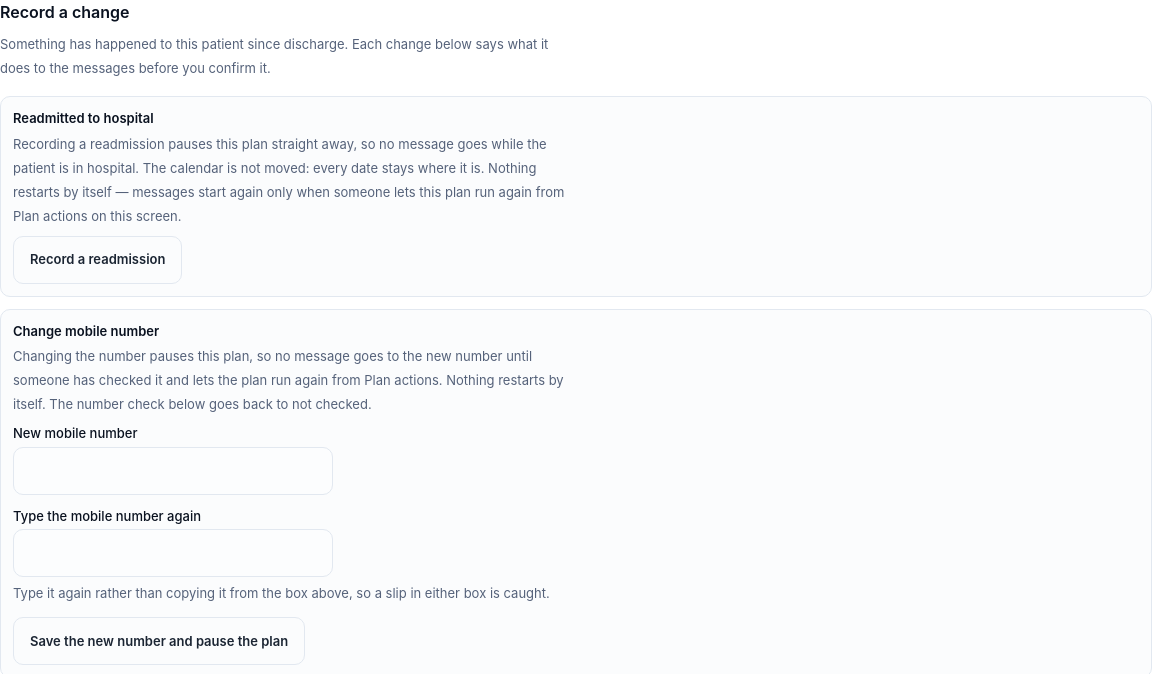
Test: recording a readmission › says messages pause, the calendar stays, and nothing restarts by itself; then sends the event
The image size is (1152, 674).
Expected: the element with test id "caring-contacts-update-readmission-block" shows "pauses this plan straight away", top-left (13, 136), bottom-right (564, 224)
Expected: the element with test id "caring-contacts-update-readmission-block" shows "The calendar is not moved", top-left (13, 136), bottom-right (564, 224)
Step 1. Click the button "Record a readmission" → (98, 260), box top-left (13, 236), bottom-right (182, 284)
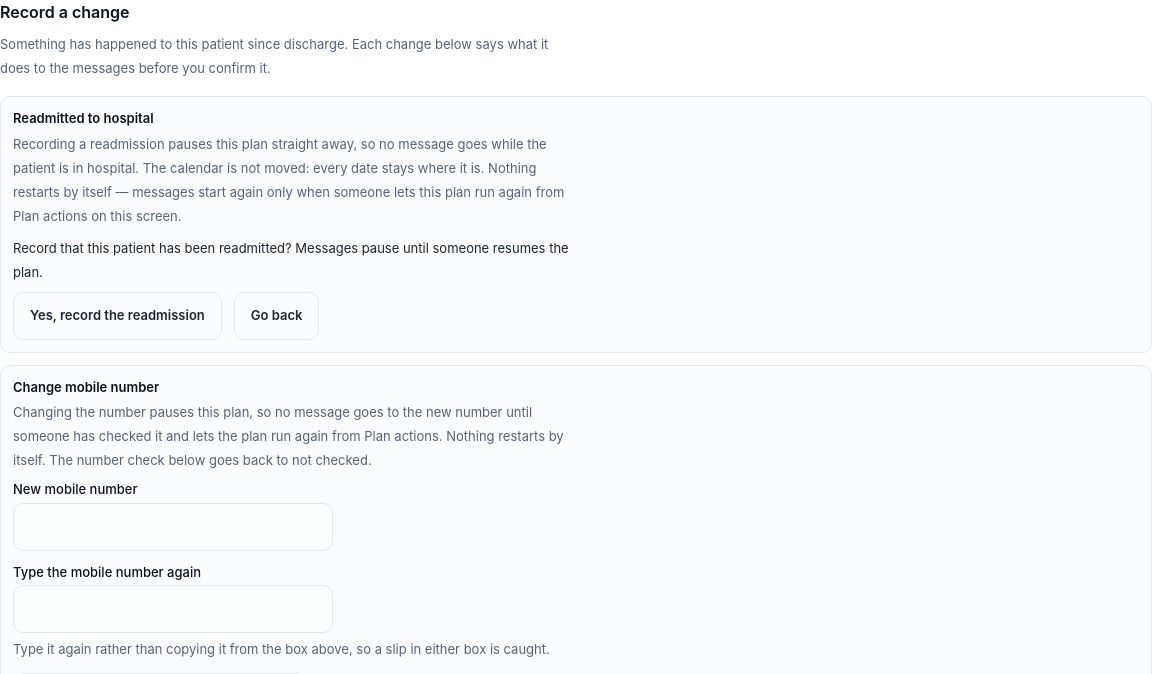
Step 2. Click the button "Yes, record the readmission" → (117, 316), box top-left (13, 292), bottom-right (222, 340)
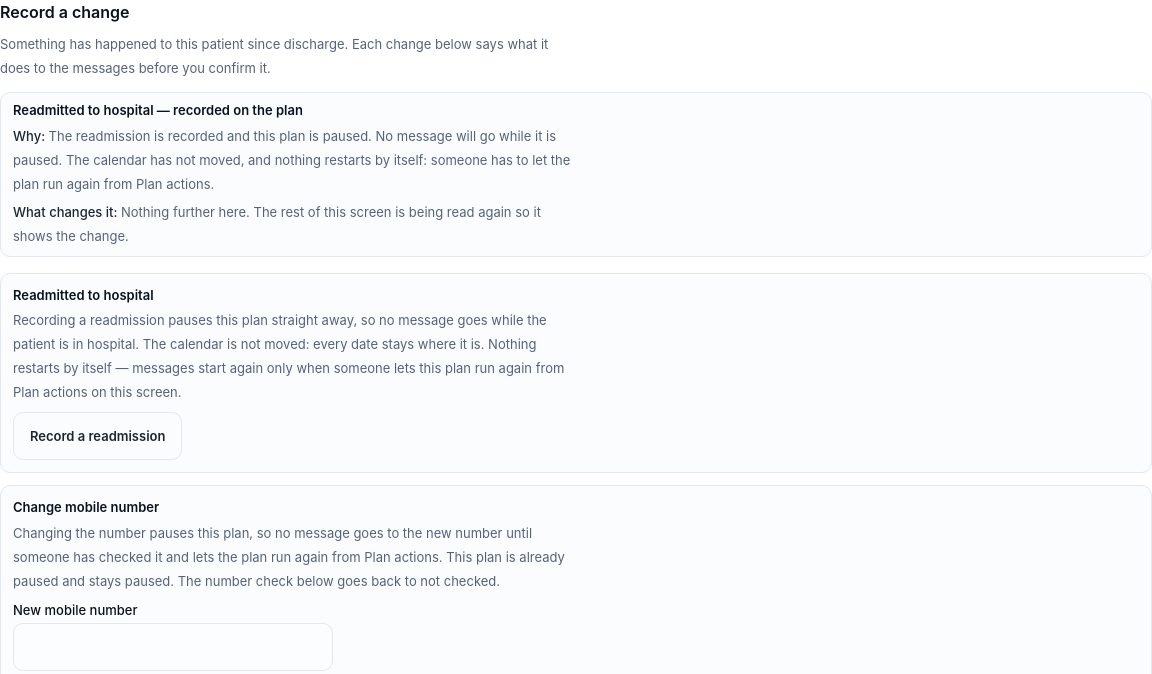
Expected: the message with test id "caring-contacts-record-a-change-outcome" shows "Readmitted to hospital — recorded on the plan", top-left (13, 102), bottom-right (303, 118)
Expected: the message with test id "caring-contacts-record-a-change-outcome" shows "nothing restarts by itself", top-left (13, 128), bottom-right (570, 192)
